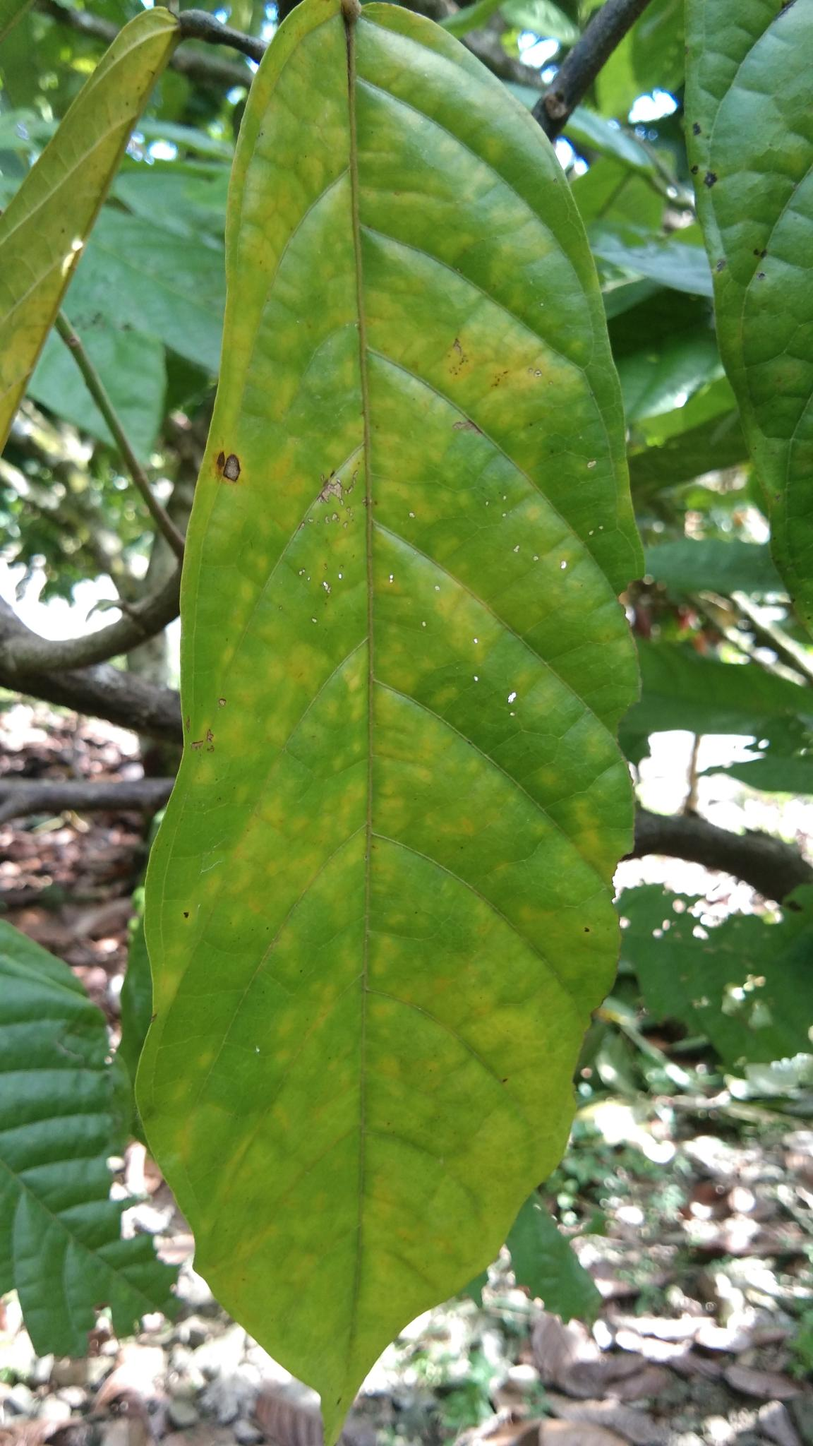Fosforo: (110, 0, 671, 1446)
